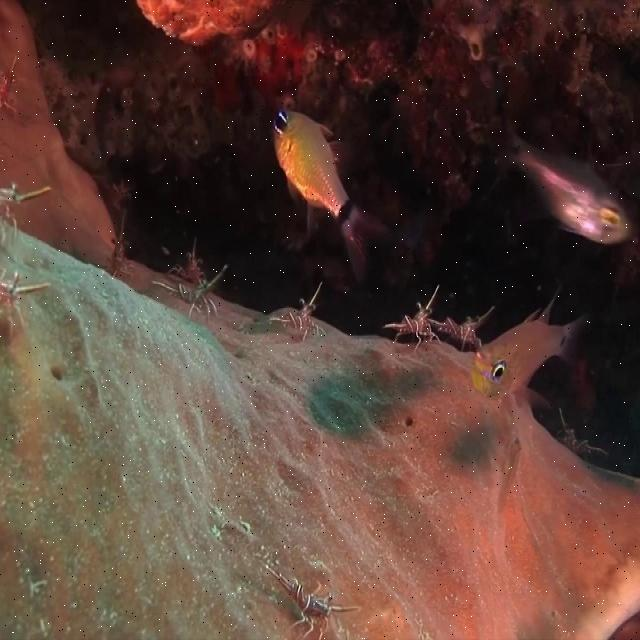fish: (274, 109, 393, 281), (478, 126, 631, 243), (472, 292, 587, 396)
reefs: (268, 568, 360, 638), (151, 267, 228, 321), (385, 283, 443, 352), (271, 280, 327, 338), (431, 307, 496, 348)
